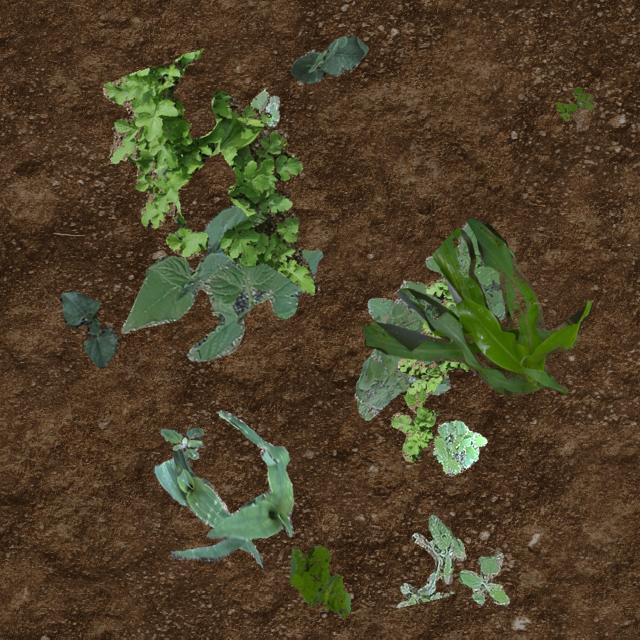crop: (362, 218, 590, 396), (120, 204, 322, 360), (170, 410, 294, 560), (152, 448, 262, 566), (58, 290, 116, 368), (290, 34, 368, 82)
weed: (102, 49, 318, 294), (354, 222, 504, 419), (389, 277, 468, 461), (396, 514, 464, 606), (288, 544, 349, 616), (432, 420, 486, 472), (458, 552, 508, 604), (158, 428, 202, 458), (554, 86, 592, 120), (250, 88, 278, 126)
